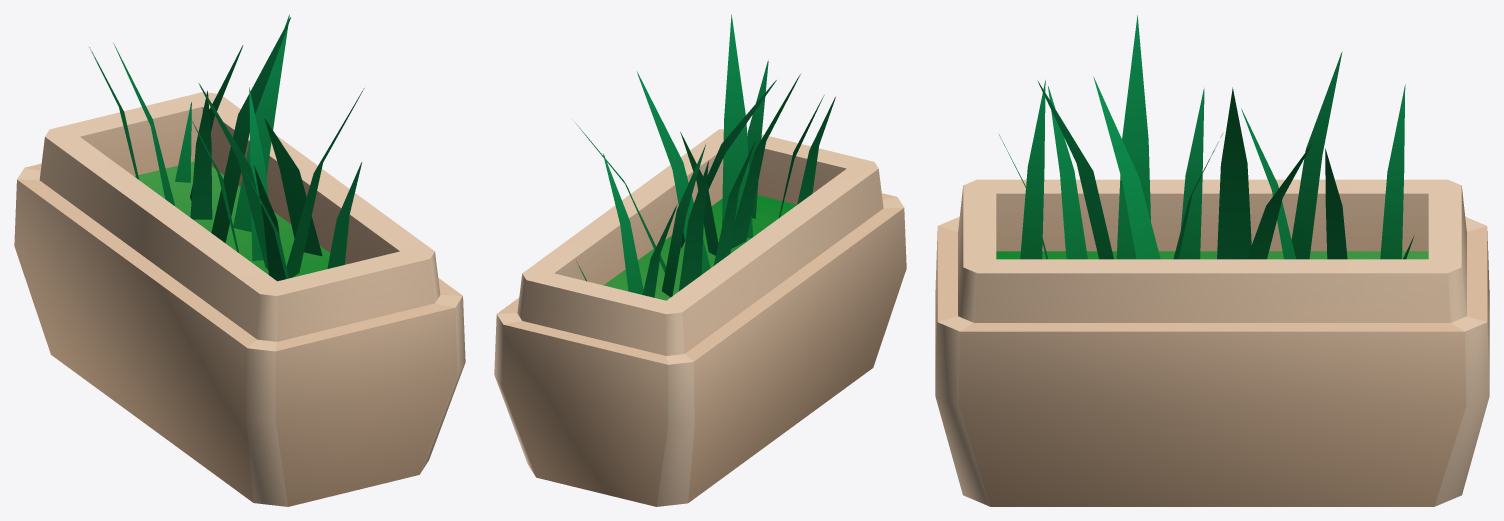
The model's file is Plant_Pot.fbx.
3 views of the same model, side by side, from view 1: azimuth 30°, elevation 25°; view 2: azimuth 150°, elevation 25°; view 3: azimuth 270°, elevation 25° (orthographic). The views are drawn at different scales.
Visible parts, largest first — view 1: Plant_Pot_1A; view 2: Plant_Pot_1A; view 3: Plant_Pot_1A.
Part boxes in pixels (left/top/right/bottom): Plant_Pot_1A: left=14, top=14, right=465, bottom=506; Plant_Pot_1A: left=494, top=14, right=906, bottom=506; Plant_Pot_1A: left=935, top=15, right=1489, bottom=506.
Size of the model in its own units: 1575 by 2539 by 3151.
